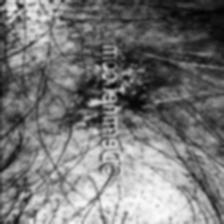Potentially Malignant Skin Tumors: (117, 60, 151, 136)
